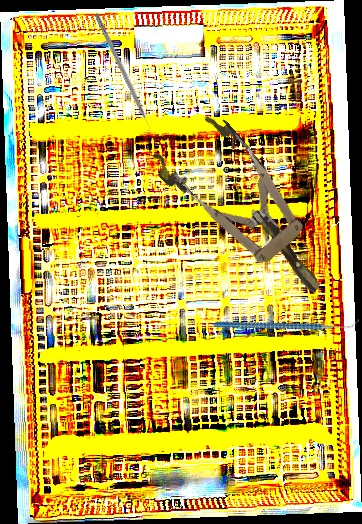Chopper: (213, 272, 360, 373)
Hook Surgical: (93, 12, 157, 140)
Speculum: (146, 104, 349, 319)
